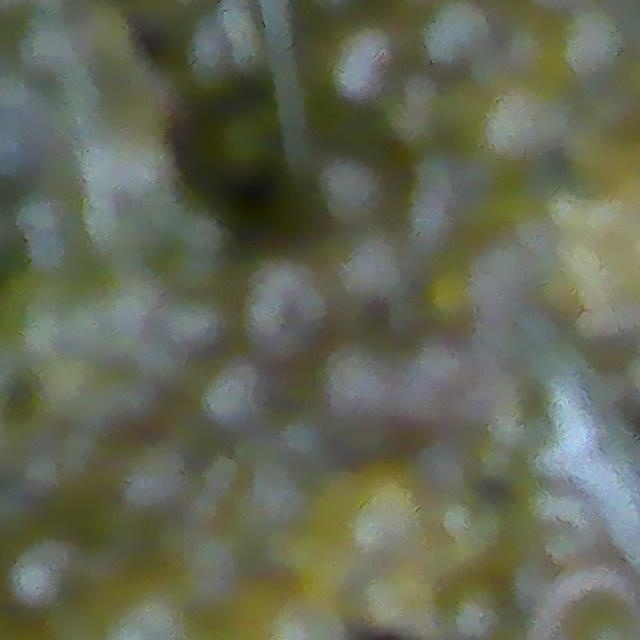SeaGrape: (315, 355, 411, 455), (239, 267, 339, 354), (328, 228, 410, 309), (315, 152, 387, 227), (556, 6, 625, 80), (423, 0, 490, 63)
